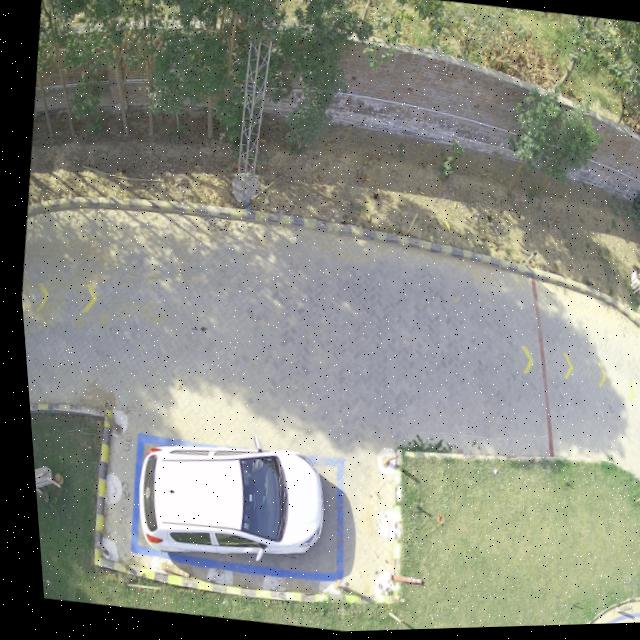car: (123, 444, 324, 566)
